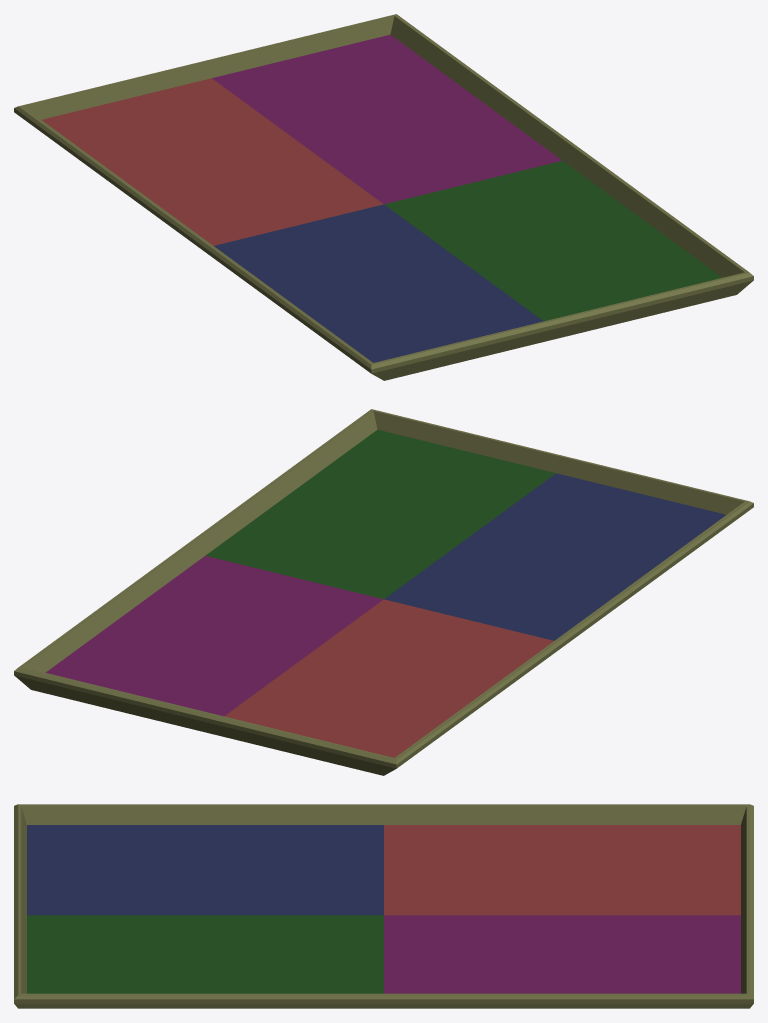
Rendered from cuadro.fbx.
3 renders of one model, top to bottom at view 1: azimuth 30°, elevation 25°; view 2: azimuth 150°, elevation 25°; view 3: azimuth 270°, elevation 25°, orthographic. The views are drawn at different scales.
Parts seen in each view (by area): view 1: Cube; view 2: Cube; view 3: Cube.
Part boxes in pixels (box(x1,y1,x2,y2)): Cube: box(14, 14, 753, 380); Cube: box(14, 409, 753, 775); Cube: box(14, 804, 753, 1008).
Bounding box in the file's own units: 207 × 9.91 × 334.
